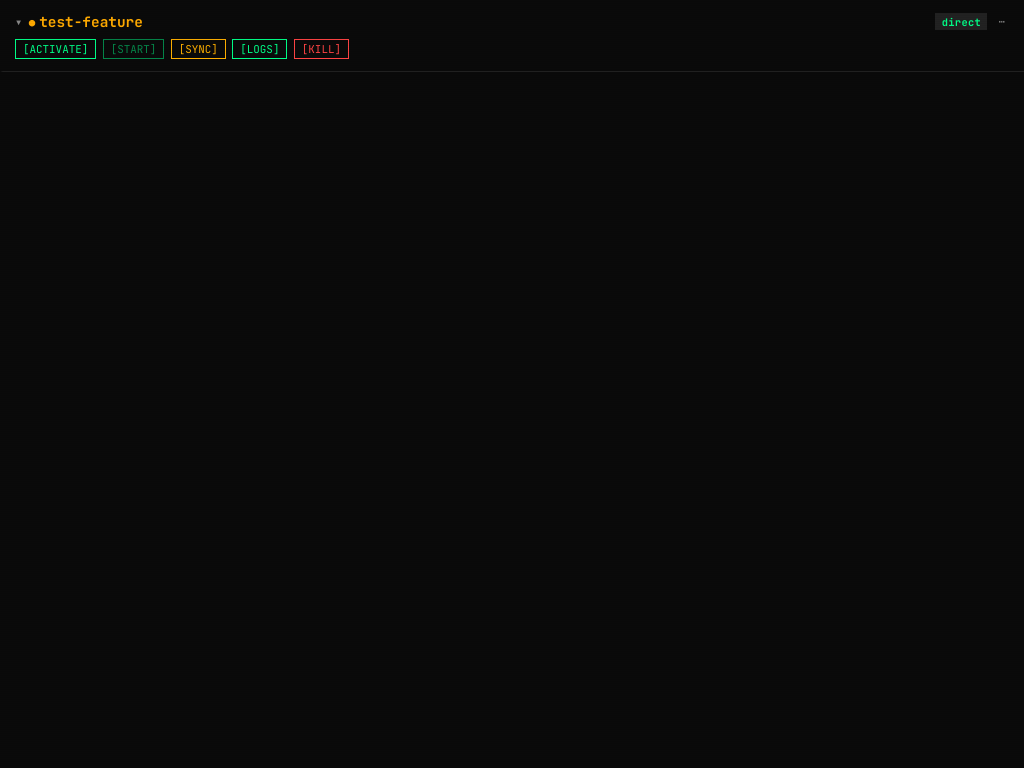
it: FeatureCard — kill flow › clicking [KILL] opens the ConfirmModal with a destruction explanation
Click the button with aria-label "Kill feature": (321, 49) [294,39,349,59]
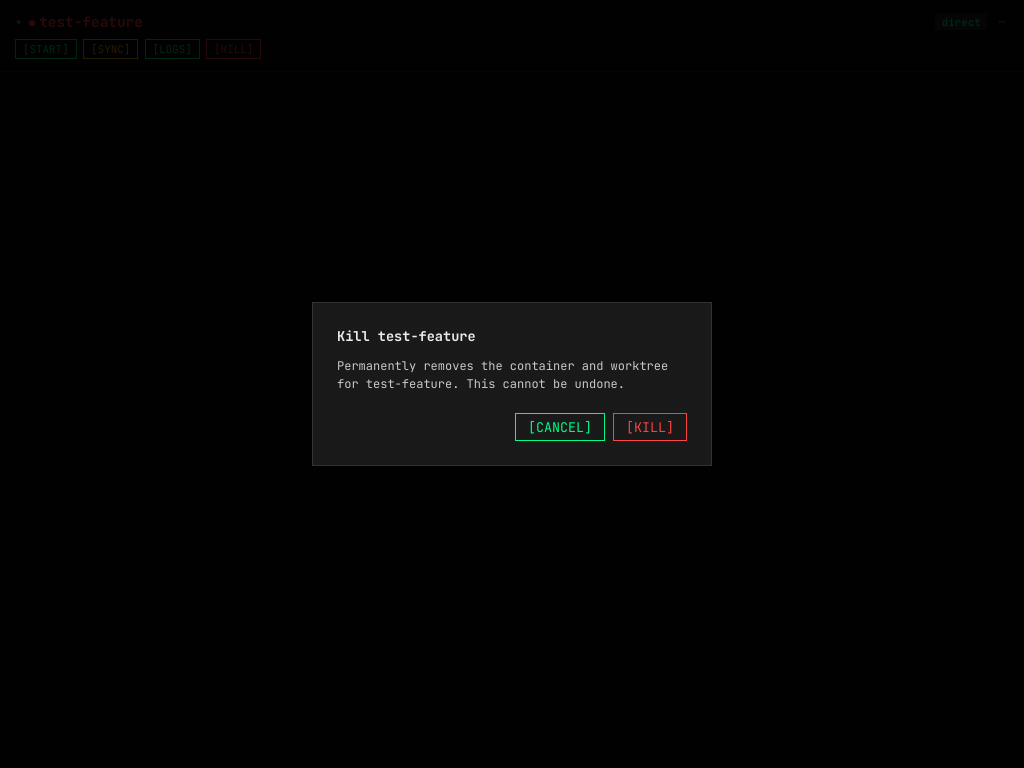
Check: the dialog is shown, box [312,302,712,466]
Check: the text "cannot be undone" is shown, box [337,358,668,392]
